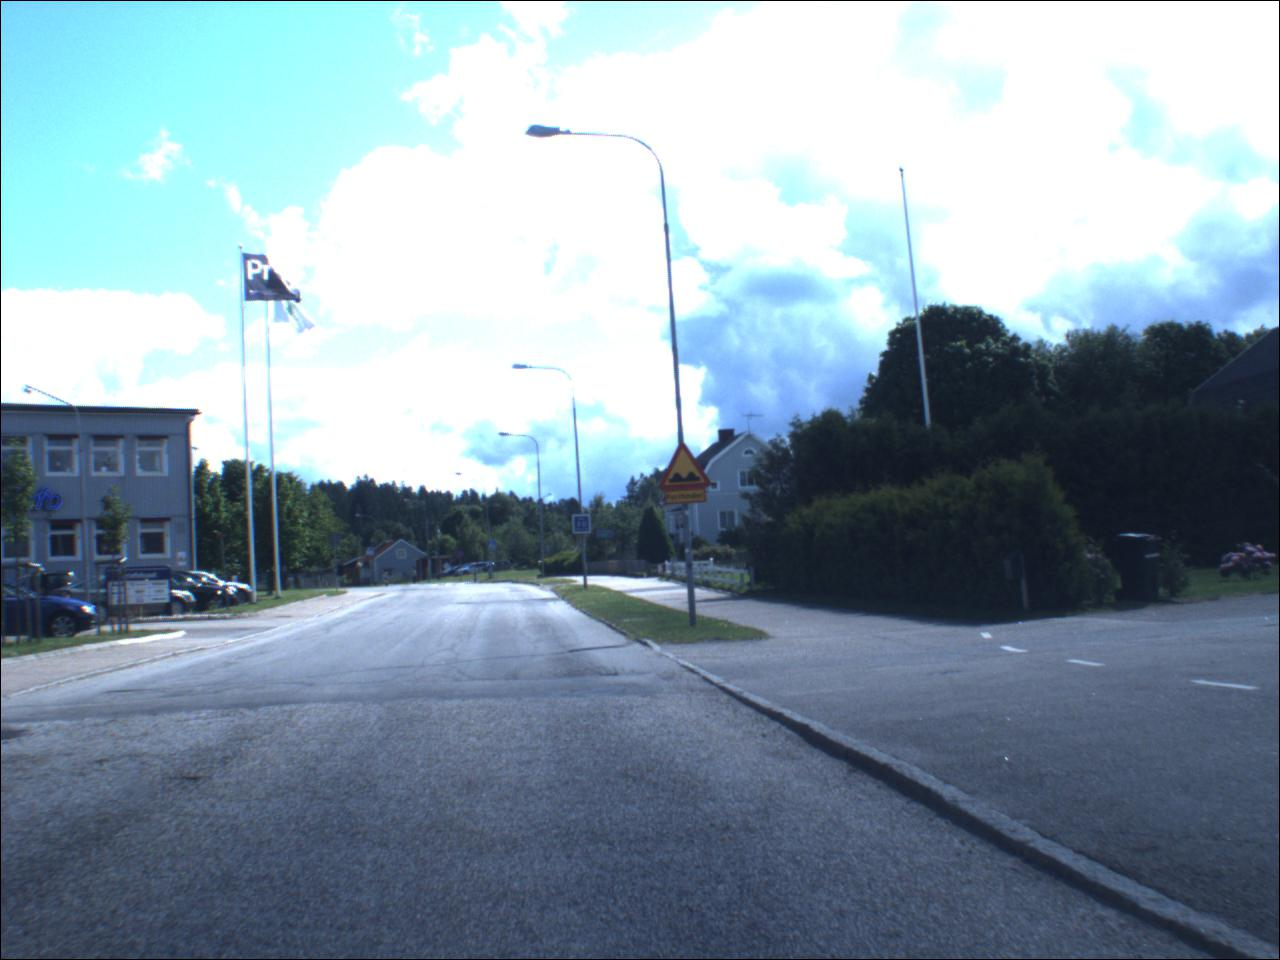WARNING_BAD_ROAD: (661, 442, 715, 493)
